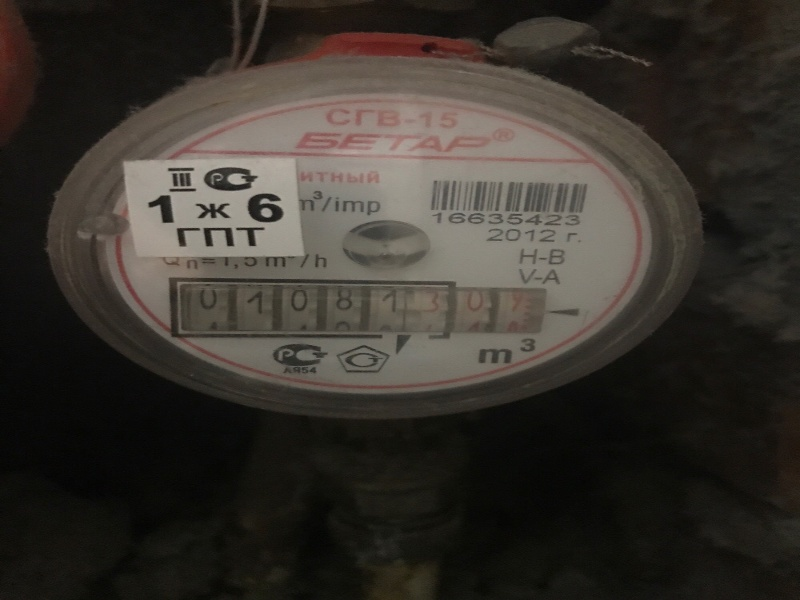meter: (182, 277, 542, 340)
